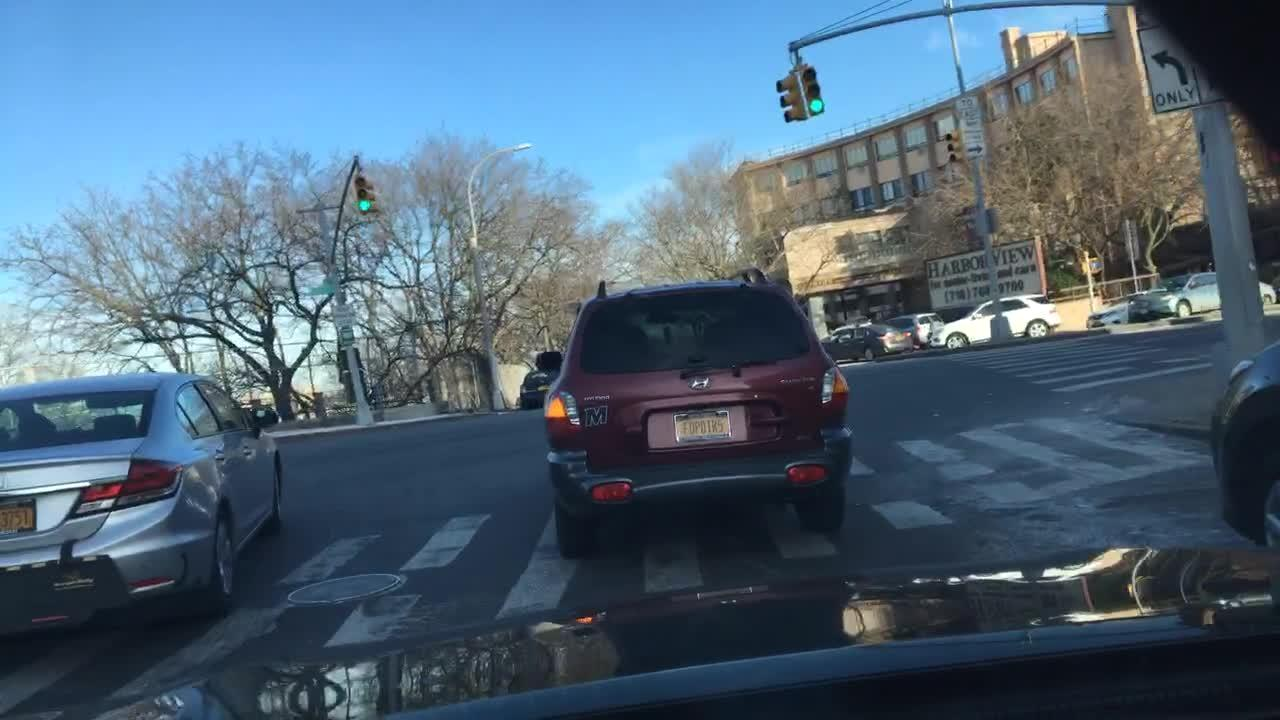Hyundai: (683, 370, 715, 396)
